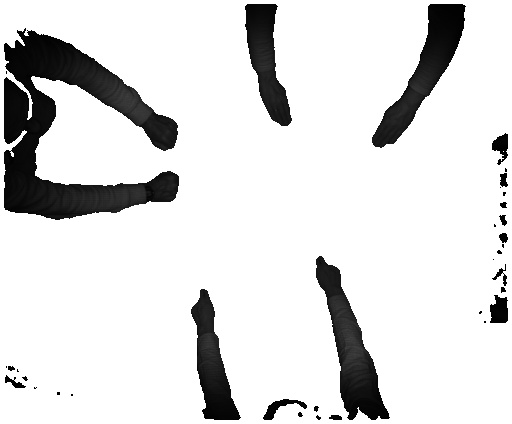fist: (147, 114, 183, 151), (149, 168, 183, 207)
hand: (368, 102, 416, 151), (260, 77, 295, 127), (184, 288, 218, 331), (312, 256, 344, 292)
